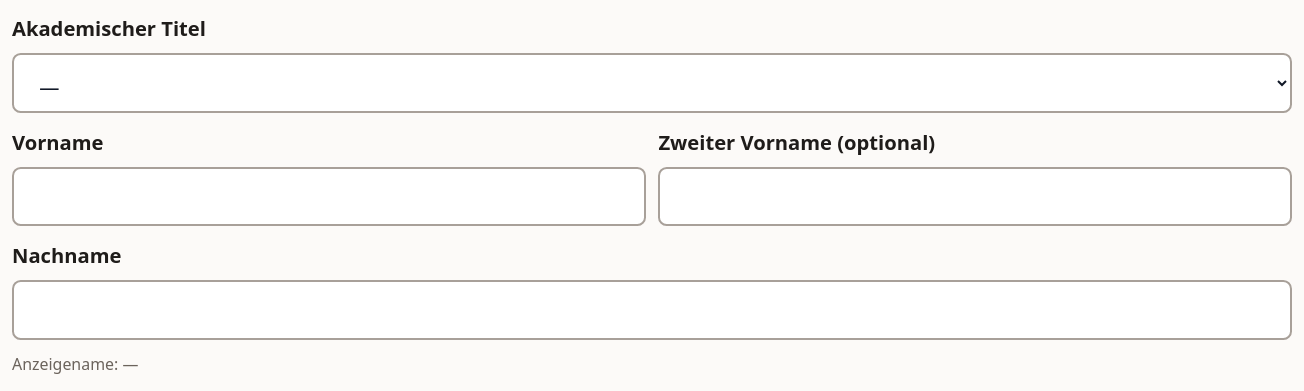
Test case: NameFields › updates live preview with academic title
The width and height of the screenshot is (1304, 391).
Select "Dr." in the dropdown labelled "Akademischer Titel": (652, 83) 12,53 -> 1292,113
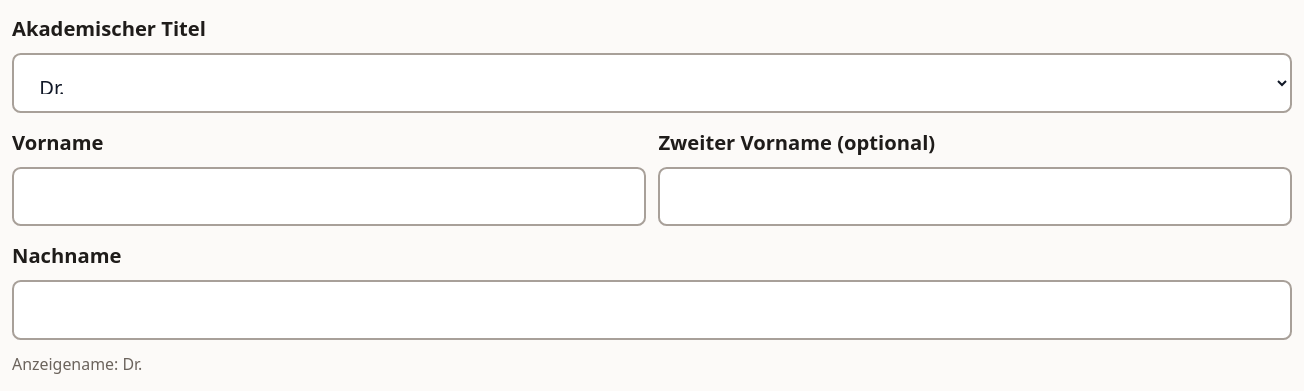
In the field labelled "Vorname": (329, 197) 12,167 -> 646,226, type "Max"
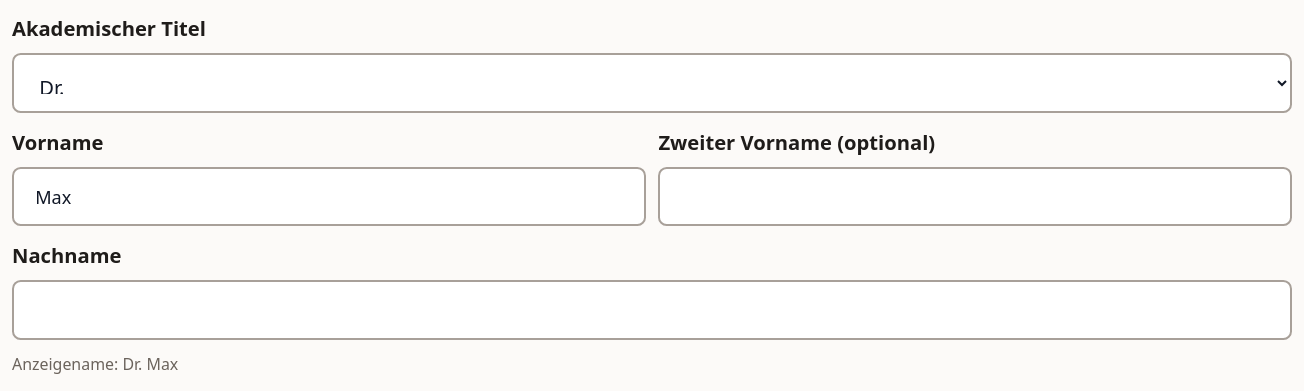
In the field labelled "Nachname": (652, 310) 12,280 -> 1292,340, type "Mustermann"
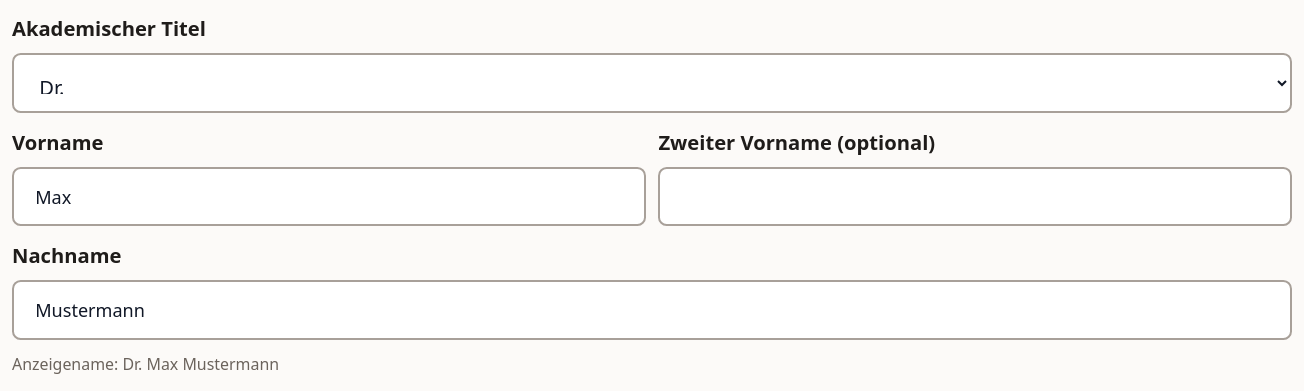
Now the text "Anzeigename: Dr. Max Mustermann" is shown, box 12,353 -> 279,375
